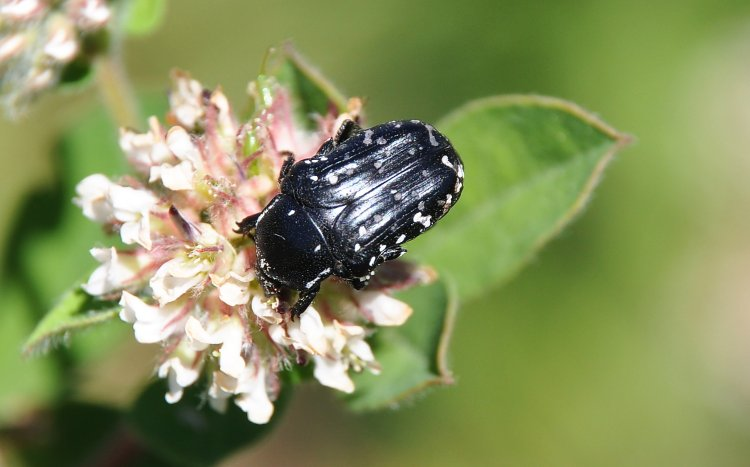Oxythyrea_cinctella: (237, 116, 467, 328)
